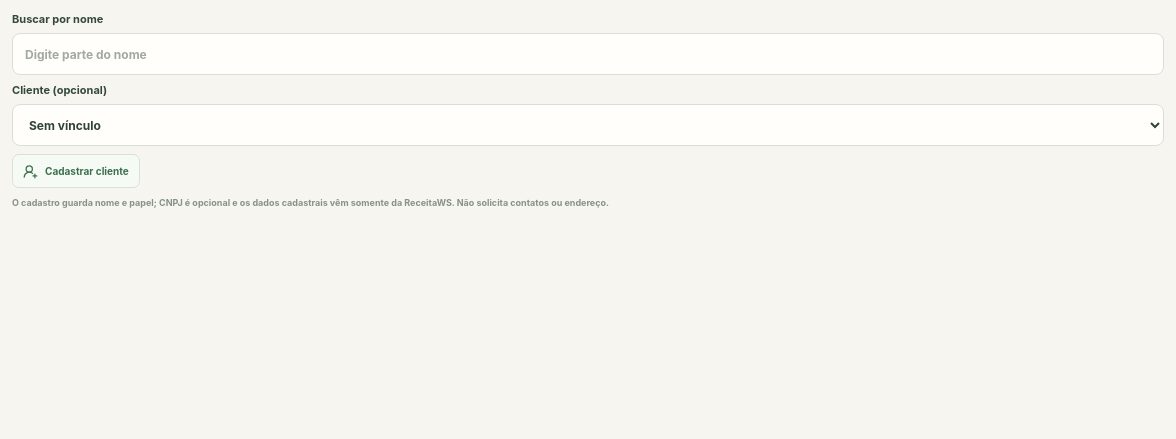
Test case: RNF06 — auditoria automatizada de acessibilidade › audita seletor de clientes e fornecedores e fecha o painel por Escape
Later steps or results of the test are not shown.
Click the button "Cadastrar cliente": (76, 171) left=12, top=154, right=140, bottom=188
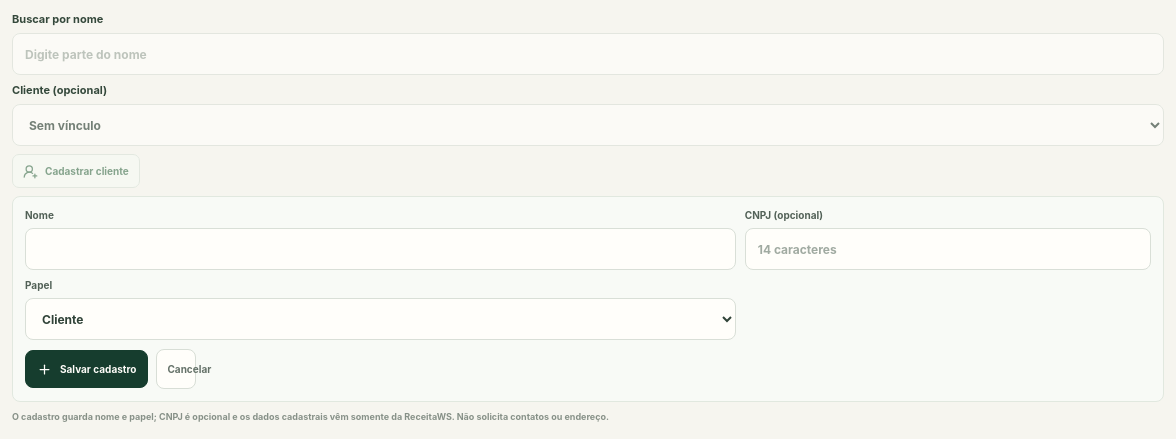
Result: the element named "Novo cadastro de cliente ou fornecedor" is shown at left=12, top=196, right=1164, bottom=402
